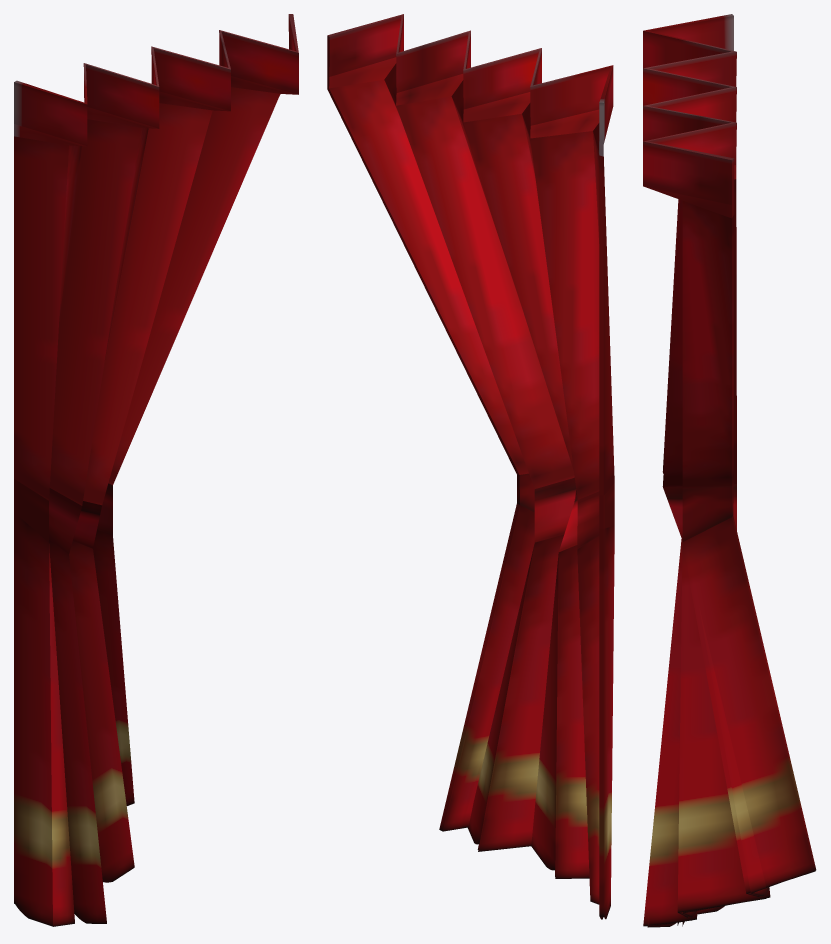
The model's file is Inside_Poly_Curtain_03.obj.
3 views of the same model, side by side, from view 1: azimuth 30°, elevation 25°; view 2: azimuth 150°, elevation 25°; view 3: azimuth 270°, elevation 25° (orthographic). The views are drawn at different scales.
Parts seen in each view (by area): view 1: Plane.001; view 2: Plane.001; view 3: Plane.001.
Boxes of the visible parts, x1,y1,x2,y2 form: Plane.001: (14,14,298,926); Plane.001: (327,14,614,919); Plane.001: (643,14,816,927).
Size of the model in its own units: 0.7 by 2 by 0.3518.
Materials: 1 (1 with a texture image).
